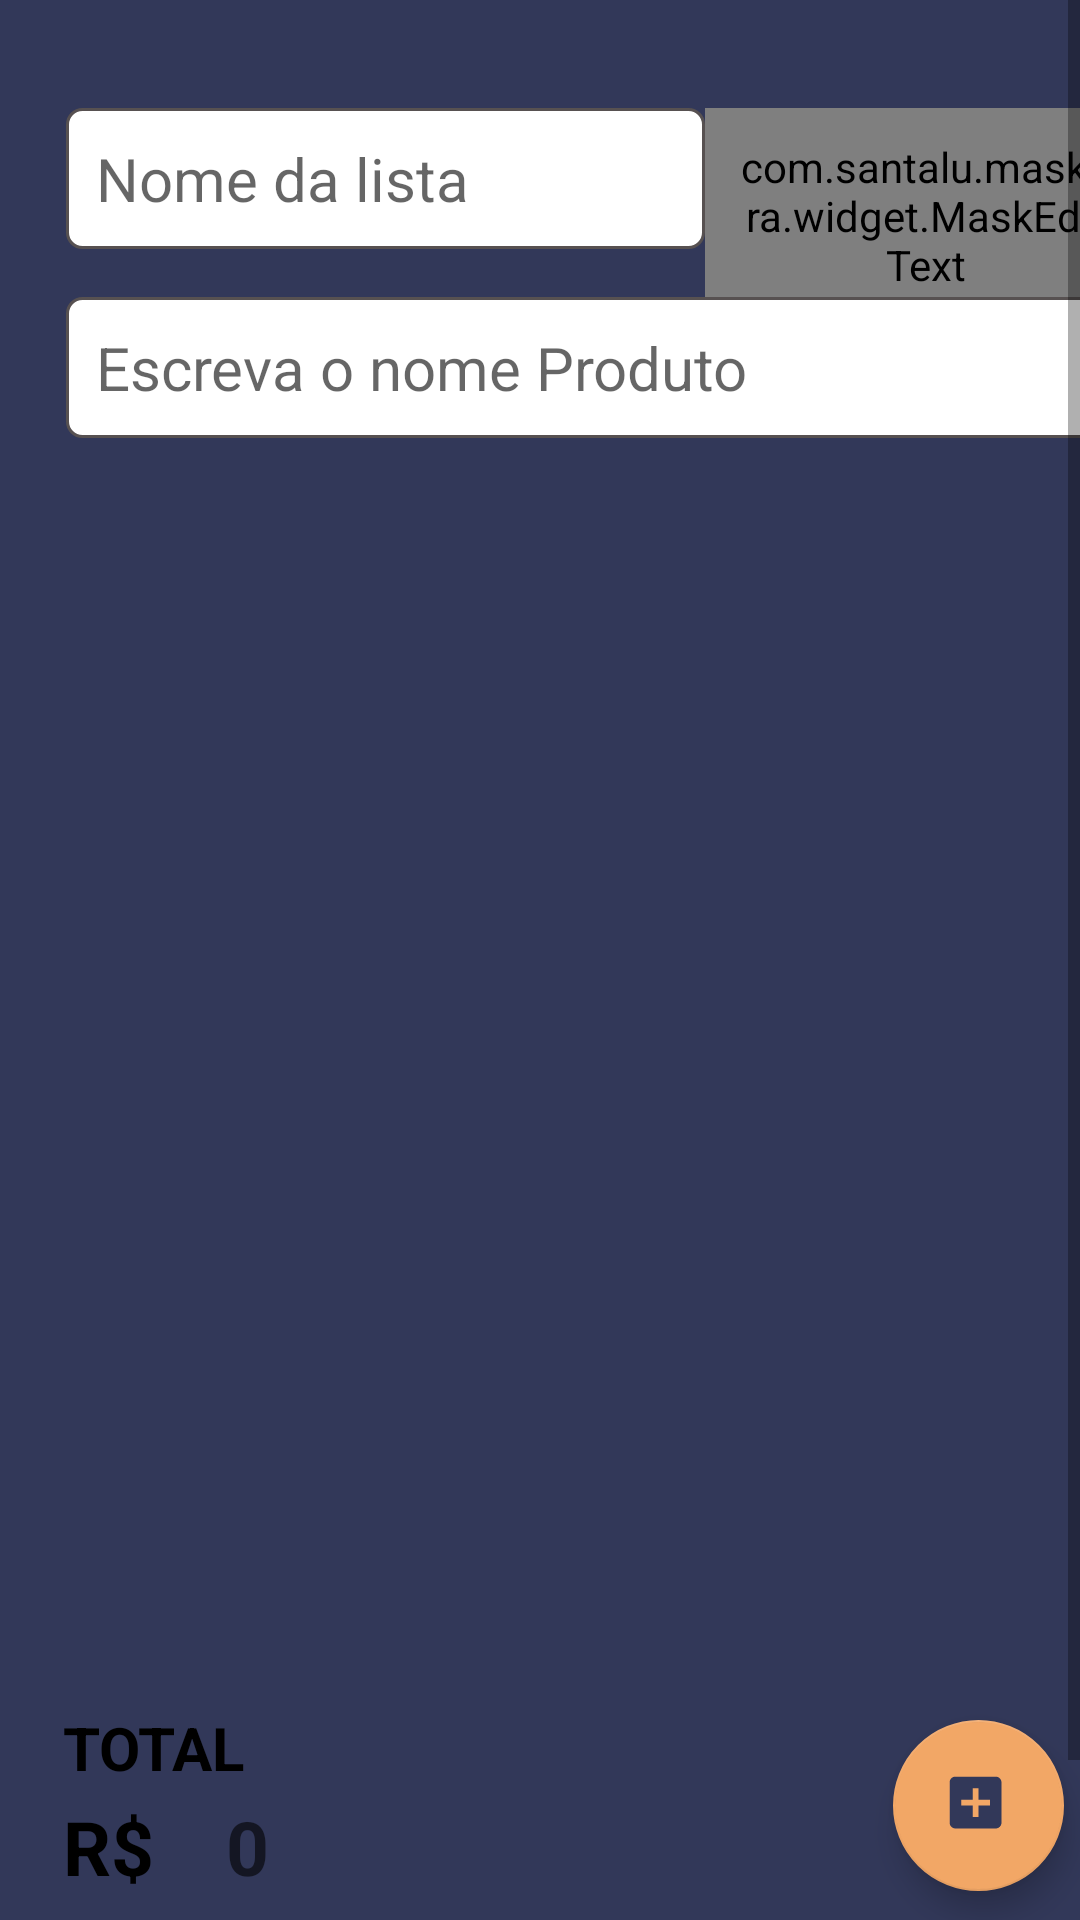

Where icons sit on this 1080 x 1920 app screen, as (x1, y1, x2, y2):
custom add product list: (893, 1720, 1064, 1891)
